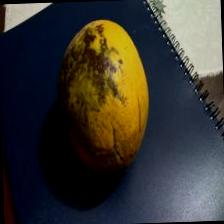Orange Rotten: (46, 13, 154, 186)
